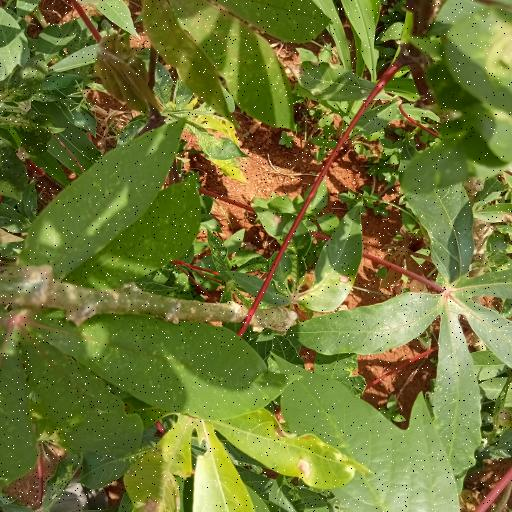Cassava_Healthy: (302, 148, 512, 476), (0, 310, 270, 482)
